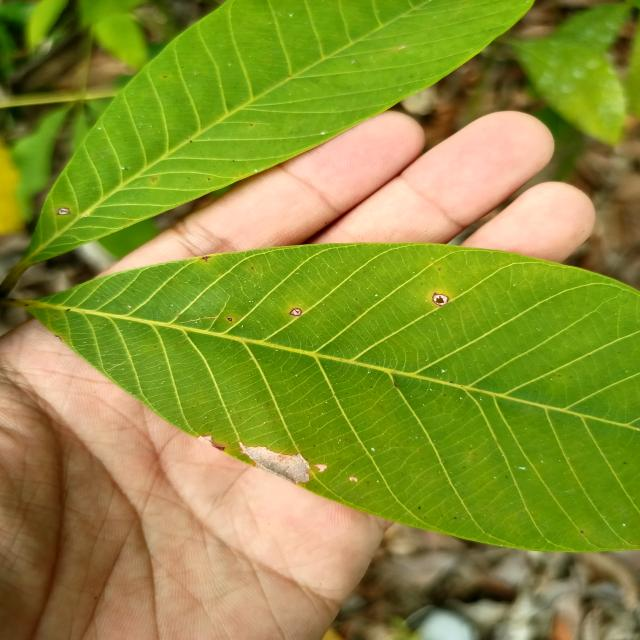Colletotrichum: (432, 293, 449, 306), (289, 308, 303, 316), (56, 208, 70, 215), (228, 318, 232, 321)
Leaf-Blight: (239, 441, 311, 484), (198, 435, 226, 451), (315, 464, 327, 472)
